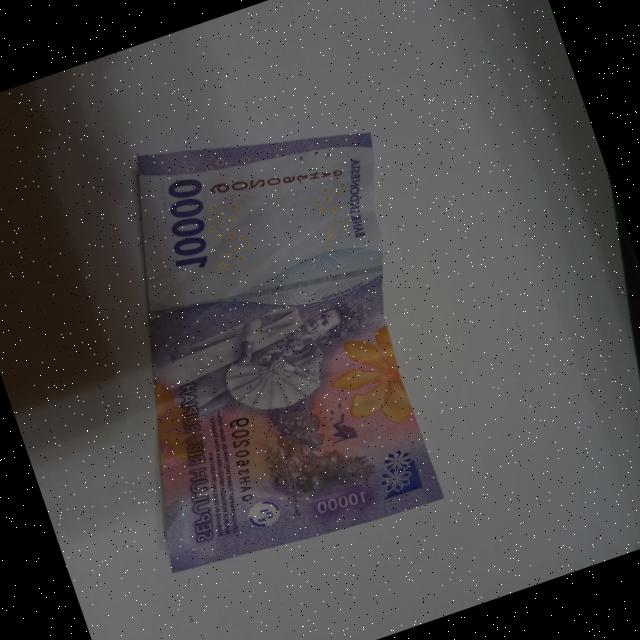10K: (22, 66, 512, 604)
